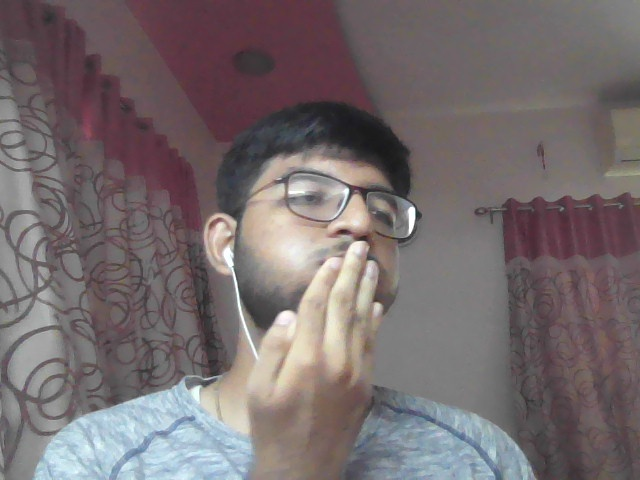આભાર: (246, 231, 399, 480)
